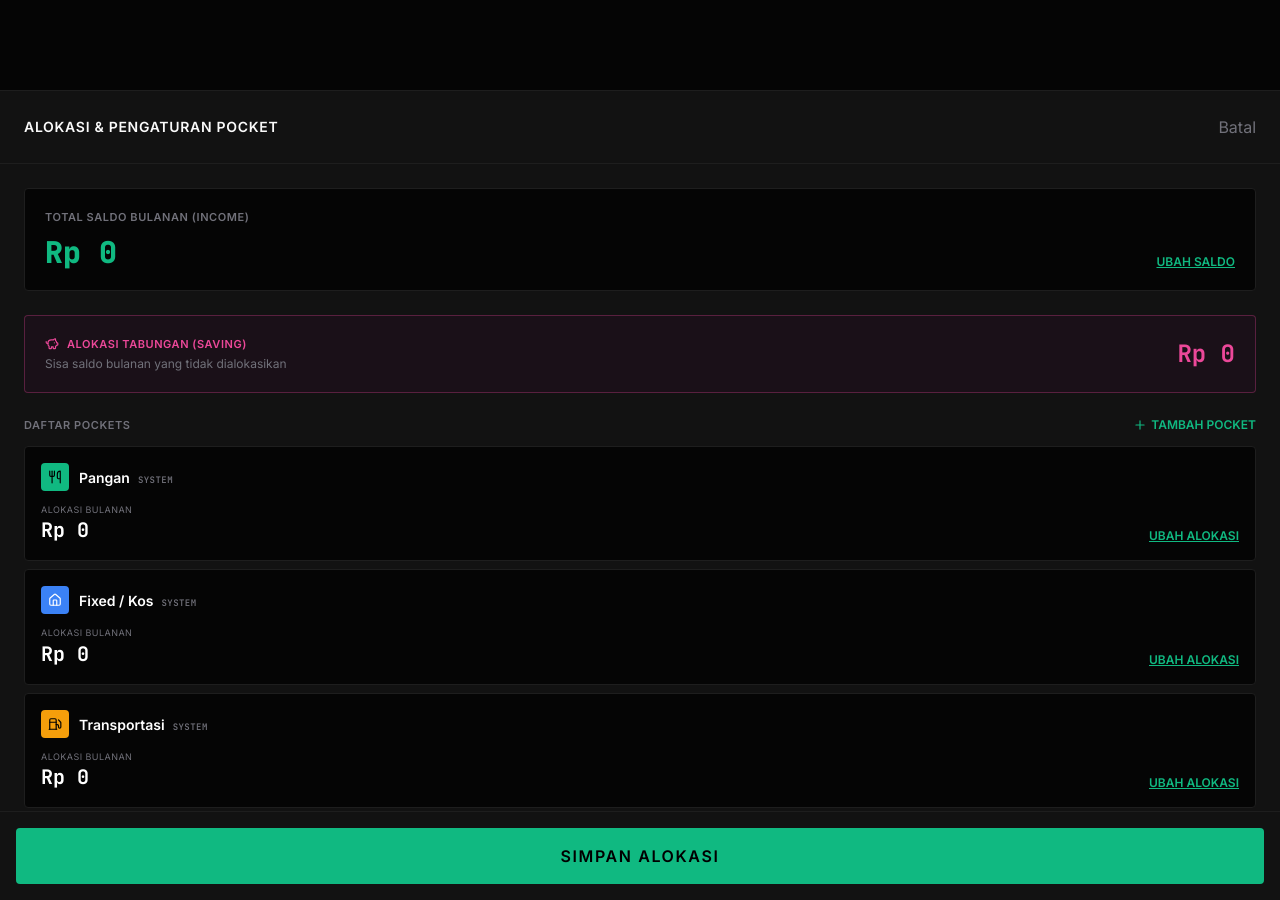
Scenario: Accessibility › ARIA labels and accessible names › pocket settings new pocket name input has aria-label
The image size is (1280, 900).
# Open the add form
Click the button "Tambah Pocket": (1195, 425) [1133, 417, 1256, 433]
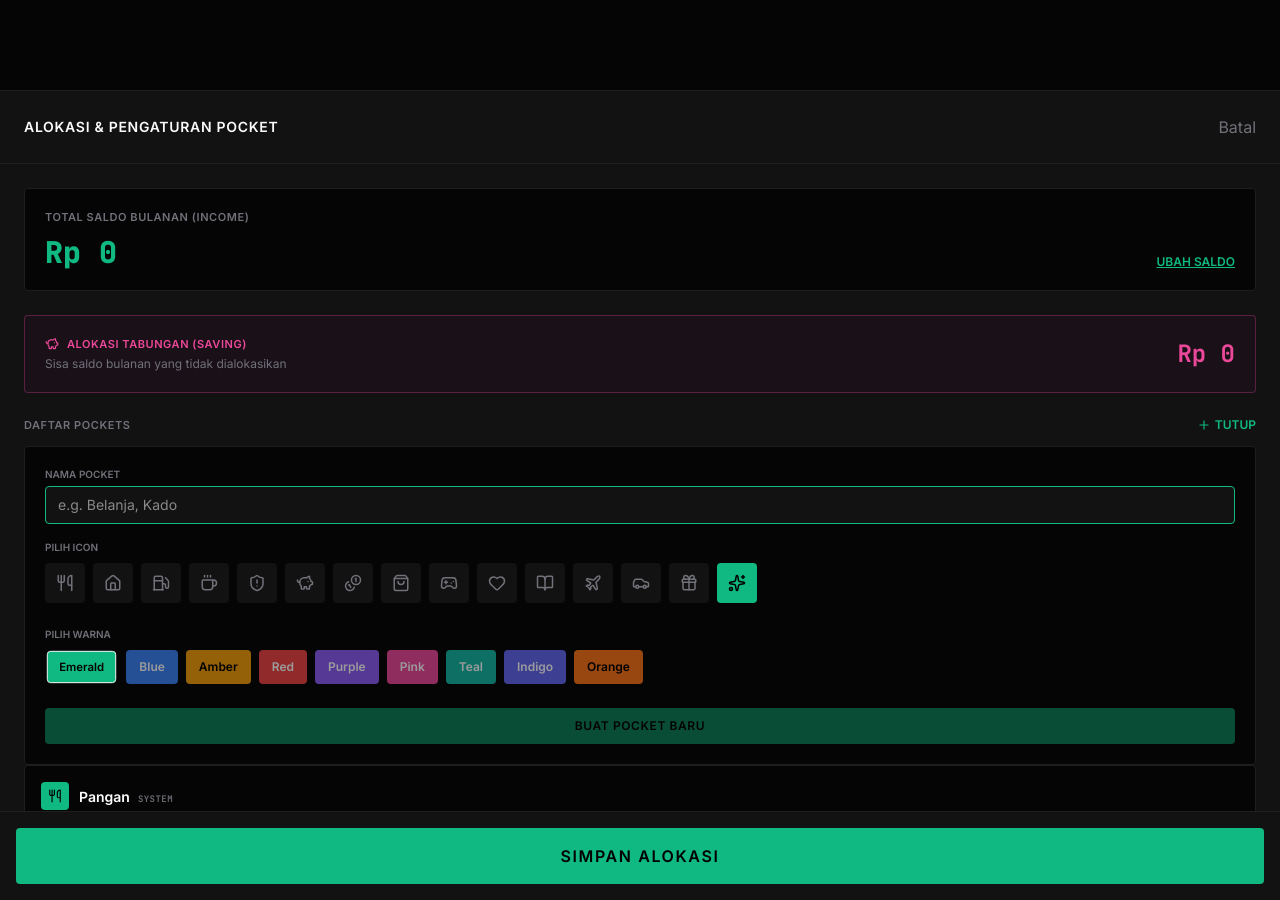
Expected: the field named "Nama Pocket Baru" is shown, [45, 486, 1235, 524]
